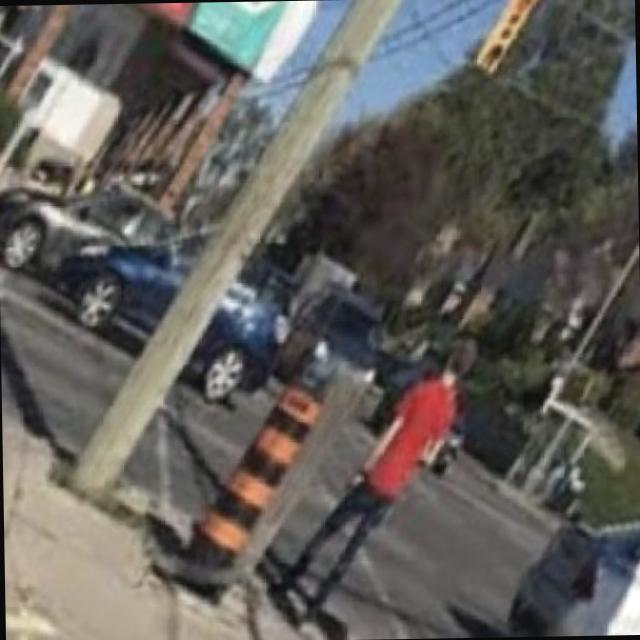Person: (268, 324, 498, 639)
